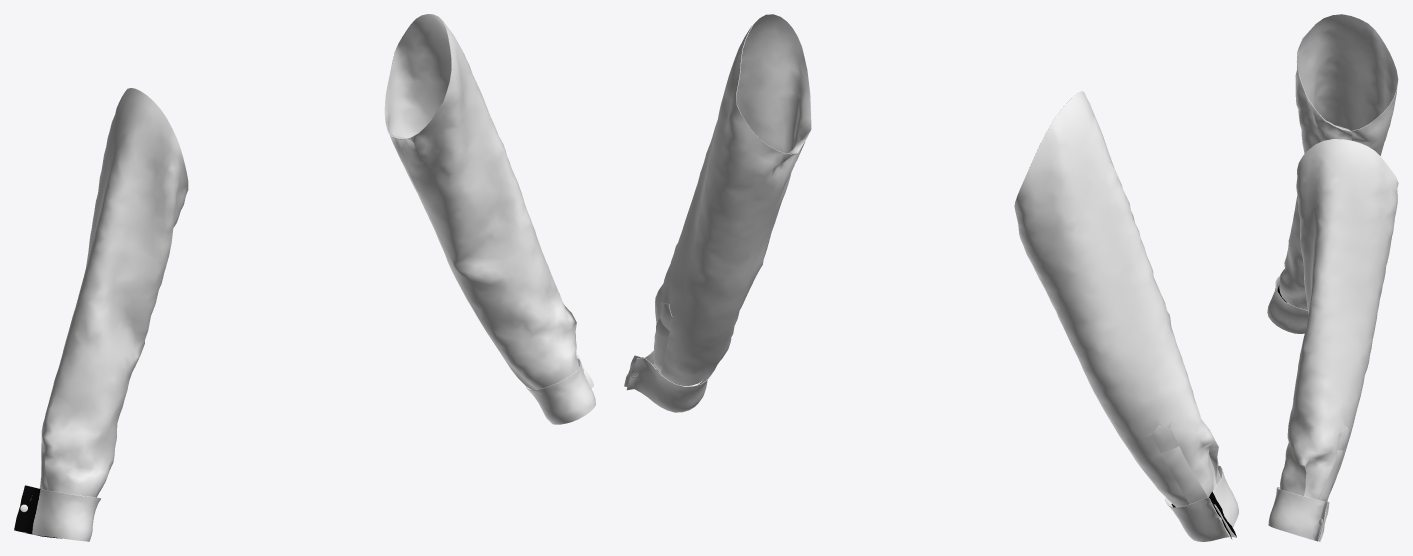
The model's file is rouble-squre-cuff.glb.
The picture shows the model from 3 angles, left to right: view 1: azimuth 30°, elevation 25°; view 2: azimuth 150°, elevation 25°; view 3: azimuth 270°, elevation 25°; orthographic projection. The views are drawn at different scales.
Visible parts, largest first — view 1: Sleeves_2_Node, Sleeves_1_Node, right_upper, left_upper; view 2: Sleeves_1_Node, Sleeves_2_Node, right_upper, left_upper, Sleeves_Placket_1_Node, Sleeves_Placket_2_Node; view 3: Sleeves_2_Node, Sleeves_1_Node, left_upper, right_upper, Sleeves_Placket_2_Node.
Boxes of the visible parts, <box> form: Sleeves_2_Node: <box>384,14,579,389</box>; Sleeves_1_Node: <box>40,88,188,497</box>; right_upper: <box>14,485,100,541</box>; left_upper: <box>526,353,595,424</box>; Sleeves_1_Node: <box>1014,91,1221,507</box>; Sleeves_2_Node: <box>654,14,811,385</box>; right_upper: <box>1165,465,1238,541</box>; left_upper: <box>624,350,712,412</box>; Sleeves_Placket_1_Node: <box>1152,425,1207,503</box>; Sleeves_Placket_2_Node: <box>653,303,672,375</box>; Sleeves_2_Node: <box>1280,139,1398,499</box>; Sleeves_1_Node: <box>1279,14,1398,309</box>; left_upper: <box>1268,487,1329,541</box>; right_upper: <box>1267,276,1308,333</box>; Sleeves_Placket_2_Node: <box>1318,426,1349,501</box>.
Bounding box in the file's own units: 0.8697 × 0.591 × 0.1959.
Materials: 5 (5 with a texture image).
